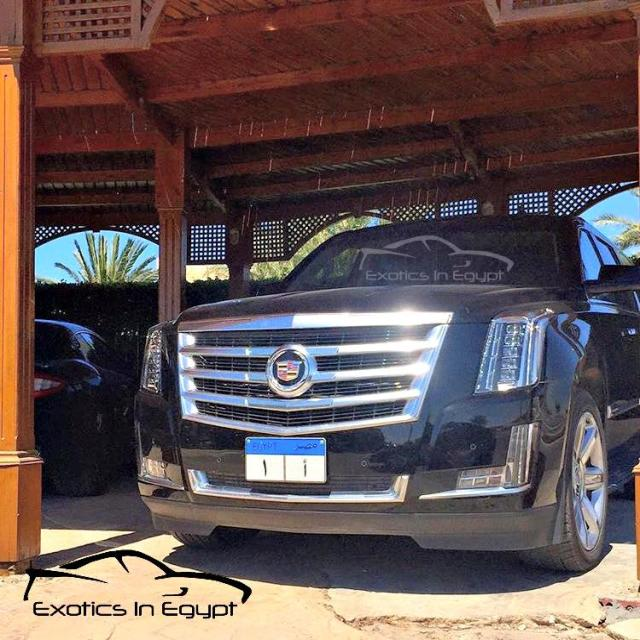License Plate: (243, 434, 327, 484)
